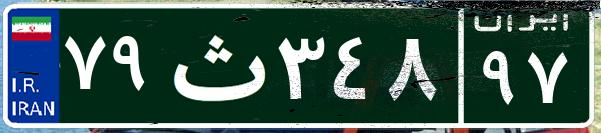3: (273, 28, 330, 110)
4: (330, 28, 385, 110)
7: (57, 26, 110, 107), (525, 38, 570, 115)
8: (385, 28, 445, 110)
9: (475, 38, 525, 113), (110, 28, 158, 105)
ث: (158, 15, 273, 115)
